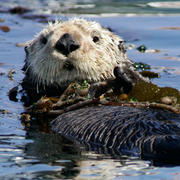otter: (20, 4, 180, 154)
